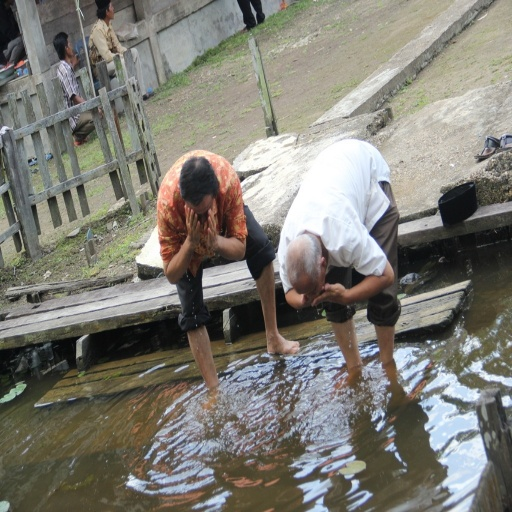hand: (310, 279, 345, 307), (183, 203, 200, 244), (303, 284, 326, 308), (206, 205, 217, 251), (96, 105, 104, 122)
